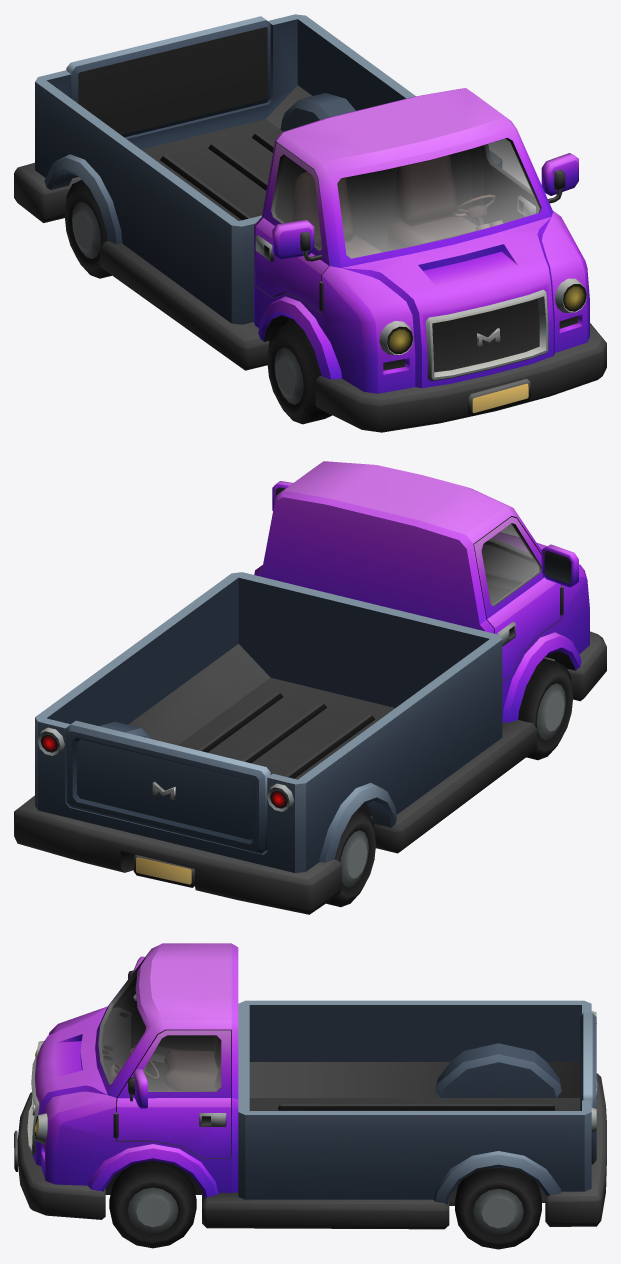
File: tp_pick_up_01a.glb
The picture shows the model from 3 angles, top to bottom: view 1: azimuth 30°, elevation 25°; view 2: azimuth 150°, elevation 25°; view 3: azimuth 270°, elevation 25°; orthographic projection. The views are drawn at different scales.
Visible parts, largest first — view 1: TP_Pick_Up_01A_Body, TP_Pick_Up_01A_Tailgate, TP_Pick_Up_01A_Door.R, TP_Pick_Up_01A_Door.L, TP_Pick_Up_01A_Wheel_F.R, TP_Pick_Up_01A_Wheel_R.R, TP_Pick_Up_01A_Headlights, TP_Pick_Up_01A_Steering_Wheel; view 2: TP_Pick_Up_01A_Body, TP_Pick_Up_01A_Tailgate, TP_Pick_Up_01A_Door.R, TP_Pick_Up_01A_Wheel_F.R, TP_Pick_Up_01A_Wheel_R.R; view 3: TP_Pick_Up_01A_Body, TP_Pick_Up_01A_Door.L, TP_Pick_Up_01A_Wheel_F.L, TP_Pick_Up_01A_Wheel_R.L, TP_Pick_Up_01A_Tailgate, TP_Pick_Up_01A_Door.R.
Boxes of the visible parts, <box> form: TP_Pick_Up_01A_Body: <box>14,14,606,432</box>; TP_Pick_Up_01A_Tailgate: <box>66,16,270,137</box>; TP_Pick_Up_01A_Door.R: <box>255,142,329,313</box>; TP_Pick_Up_01A_Door.L: <box>480,139,578,224</box>; TP_Pick_Up_01A_Wheel_F.R: <box>267,322,332,424</box>; TP_Pick_Up_01A_Wheel_R.R: <box>64,180,111,278</box>; TP_Pick_Up_01A_Headlights: <box>387,284,586,354</box>; TP_Pick_Up_01A_Steering_Wheel: <box>451,194,495,225</box>; TP_Pick_Up_01A_Body: <box>14,461,606,914</box>; TP_Pick_Up_01A_Tailgate: <box>66,720,270,853</box>; TP_Pick_Up_01A_Door.R: <box>473,517,578,680</box>; TP_Pick_Up_01A_Wheel_F.R: <box>518,658,572,760</box>; TP_Pick_Up_01A_Wheel_R.R: <box>326,808,375,907</box>; TP_Pick_Up_01A_Body: <box>14,943,606,1229</box>; TP_Pick_Up_01A_Door.L: <box>113,1030,230,1157</box>; TP_Pick_Up_01A_Wheel_F.L: <box>109,1160,196,1248</box>; TP_Pick_Up_01A_Wheel_R.L: <box>455,1168,541,1249</box>; TP_Pick_Up_01A_Tailgate: <box>580,1012,597,1164</box>; TP_Pick_Up_01A_Door.R: <box>118,956,215,1051</box>.
Bounding box in the file's own units: 2.79 × 2.18 × 5.45.
3 materials, 3 textured.
